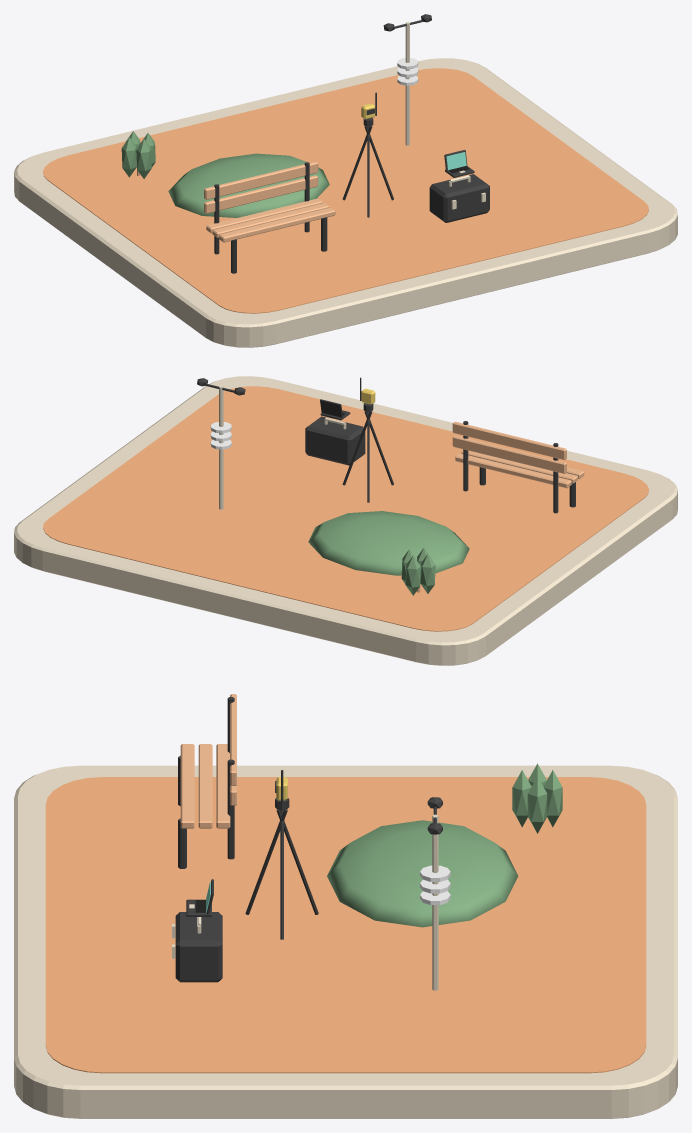
The model's file is room.fbx.
3 views of the same model, one above another, from view 1: azimuth 30°, elevation 25°; view 2: azimuth 150°, elevation 25°; view 3: azimuth 270°, elevation 25° (orthographic). The views are drawn at different scales.
Parts seen in each view (by area): view 1: COM-02 Floor Surface, COM-01 Rounded Base Direct, Low terrain, Case, Back slat, Back slat.001, Seat slat, Seat slat.001, Seat slat.002, Mast; view 2: COM-02 Floor Surface, COM-01 Rounded Base Direct, Low terrain, Case, Back slat, Back slat.001, Seat slat.002, Seat slat.001, Mast, Leaf.001, Leaf.002; view 3: COM-02 Floor Surface, COM-01 Rounded Base Direct, Low terrain, Case, Seat slat, Seat slat.001, Seat slat.002, Mast, Leaf, Leaf.003, Leaf.001.
Part boxes in pixels (bbox=[...]): COM-02 Floor Surface: bbox=[43, 68, 648, 313]; COM-01 Rounded Base Direct: bbox=[14, 58, 677, 347]; Low terrain: bbox=[168, 153, 329, 217]; Case: bbox=[429, 174, 489, 222]; Back slat: bbox=[204, 175, 318, 213]; Back slat.001: bbox=[204, 161, 318, 199]; Seat slat: bbox=[219, 207, 335, 242]; Seat slat.001: bbox=[212, 203, 329, 237]; Seat slat.002: bbox=[206, 198, 322, 233]; Mast: bbox=[405, 22, 409, 145]; COM-02 Floor Surface: bbox=[43, 386, 648, 631]; COM-01 Rounded Base Direct: bbox=[14, 376, 677, 665]; Low terrain: bbox=[308, 511, 469, 575]; Case: bbox=[305, 416, 365, 465]; Back slat: bbox=[452, 435, 566, 473]; Back slat.001: bbox=[452, 421, 566, 459]; Seat slat.002: bbox=[455, 453, 571, 488]; Seat slat.001: bbox=[461, 450, 577, 483]; Mast: bbox=[219, 386, 223, 509]; Leaf.001: bbox=[405, 555, 420, 595]; Leaf.002: bbox=[420, 554, 435, 593]; COM-02 Floor Surface: bbox=[45, 777, 646, 1073]; COM-01 Rounded Base Direct: bbox=[14, 765, 677, 1118]; Low terrain: bbox=[327, 820, 518, 927]; Case: bbox=[175, 912, 222, 982]; Seat slat: bbox=[180, 744, 194, 828]; Seat slat.001: bbox=[198, 744, 212, 828]; Seat slat.002: bbox=[216, 744, 230, 828]; Mast: bbox=[432, 814, 438, 990]; Leaf: bbox=[527, 776, 547, 833]; Leaf.003: bbox=[512, 770, 531, 827]; Leaf.001: bbox=[543, 770, 562, 827].
Bounding box in the file's own units: 600 × 185 × 520.
